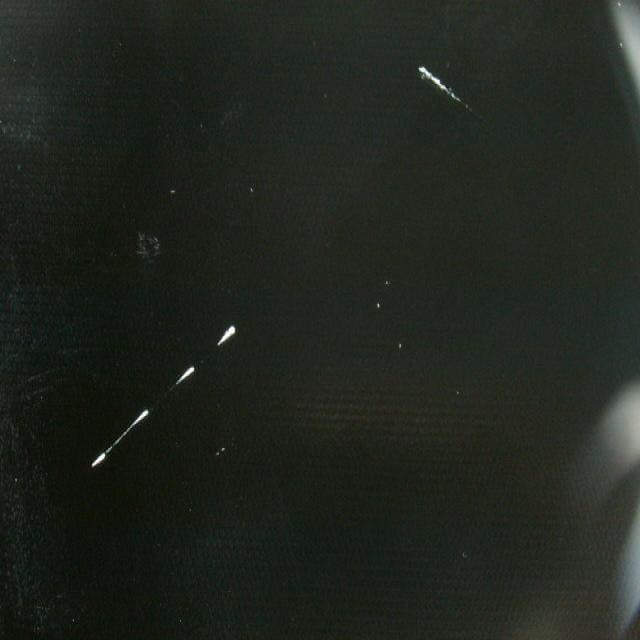scratch: (86, 313, 242, 485), (412, 53, 473, 127)
